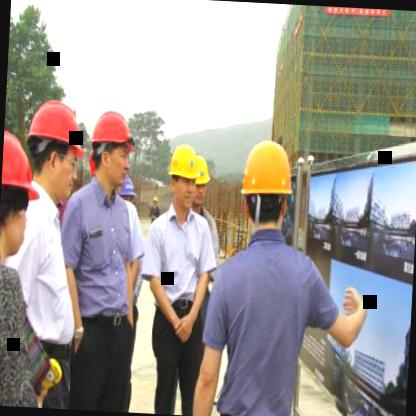helmet: (233, 136, 298, 247), (22, 98, 84, 204), (0, 122, 43, 264), (87, 104, 134, 192), (164, 139, 202, 213), (190, 156, 212, 212)
